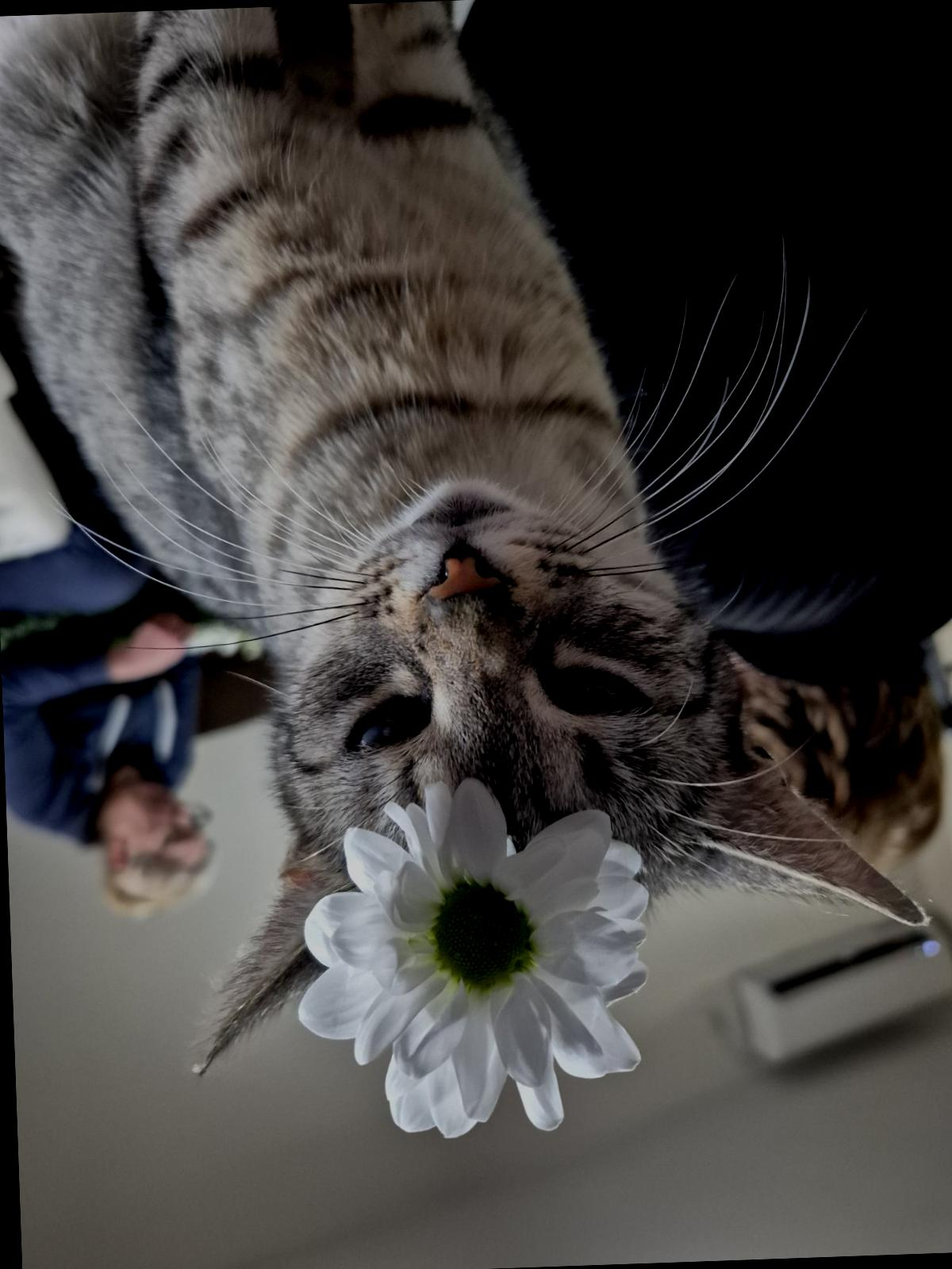macka: (0, 0, 927, 1077)
